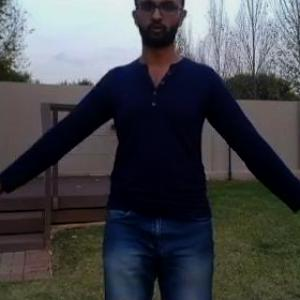land: (21, 0, 290, 299)
